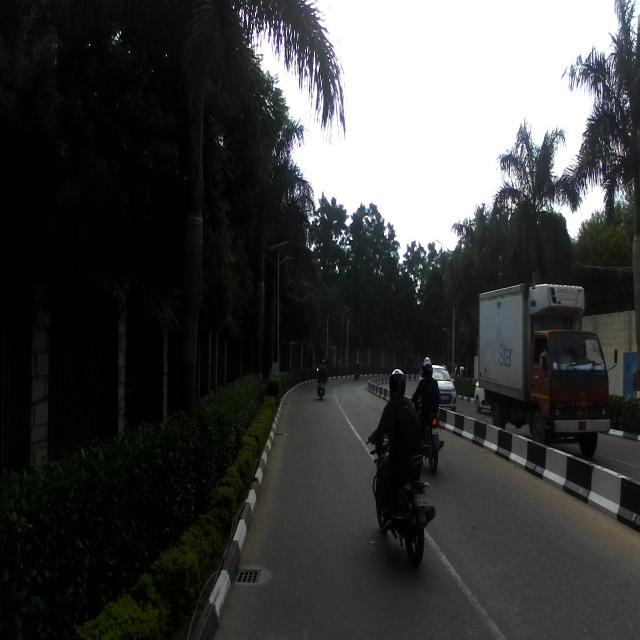motorcycle: (366, 435, 436, 571)
truck: (477, 282, 618, 458)
